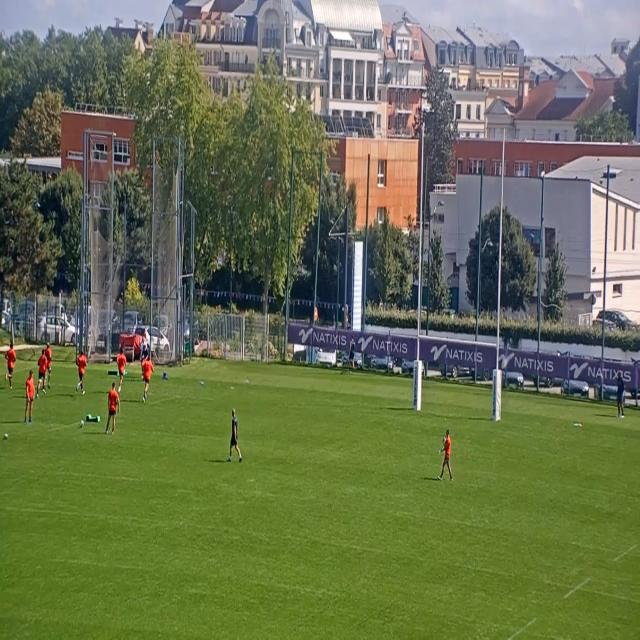rugby ball: (78, 418, 85, 433), (2, 430, 10, 442)
rugby play: (230, 403, 242, 467), (75, 344, 89, 397), (24, 366, 36, 422), (442, 430, 454, 483), (37, 347, 49, 400), (114, 346, 126, 396), (108, 378, 119, 429), (141, 354, 152, 405), (6, 340, 16, 393)
